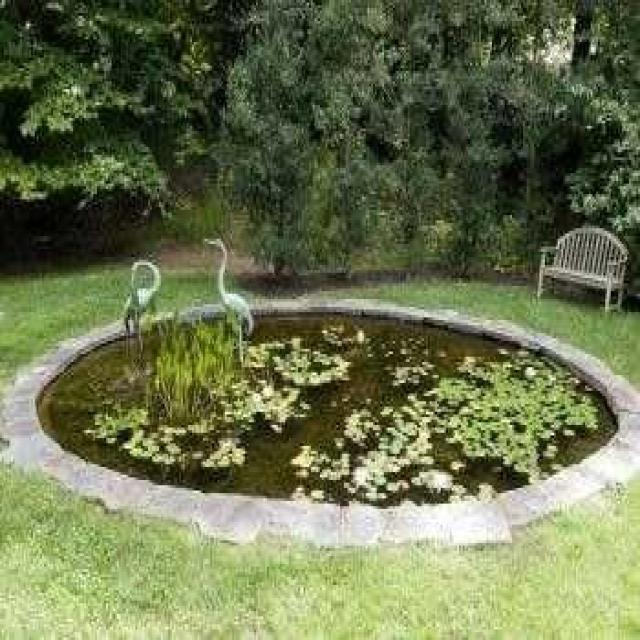egret: (193, 229, 255, 361), (114, 256, 166, 338)
